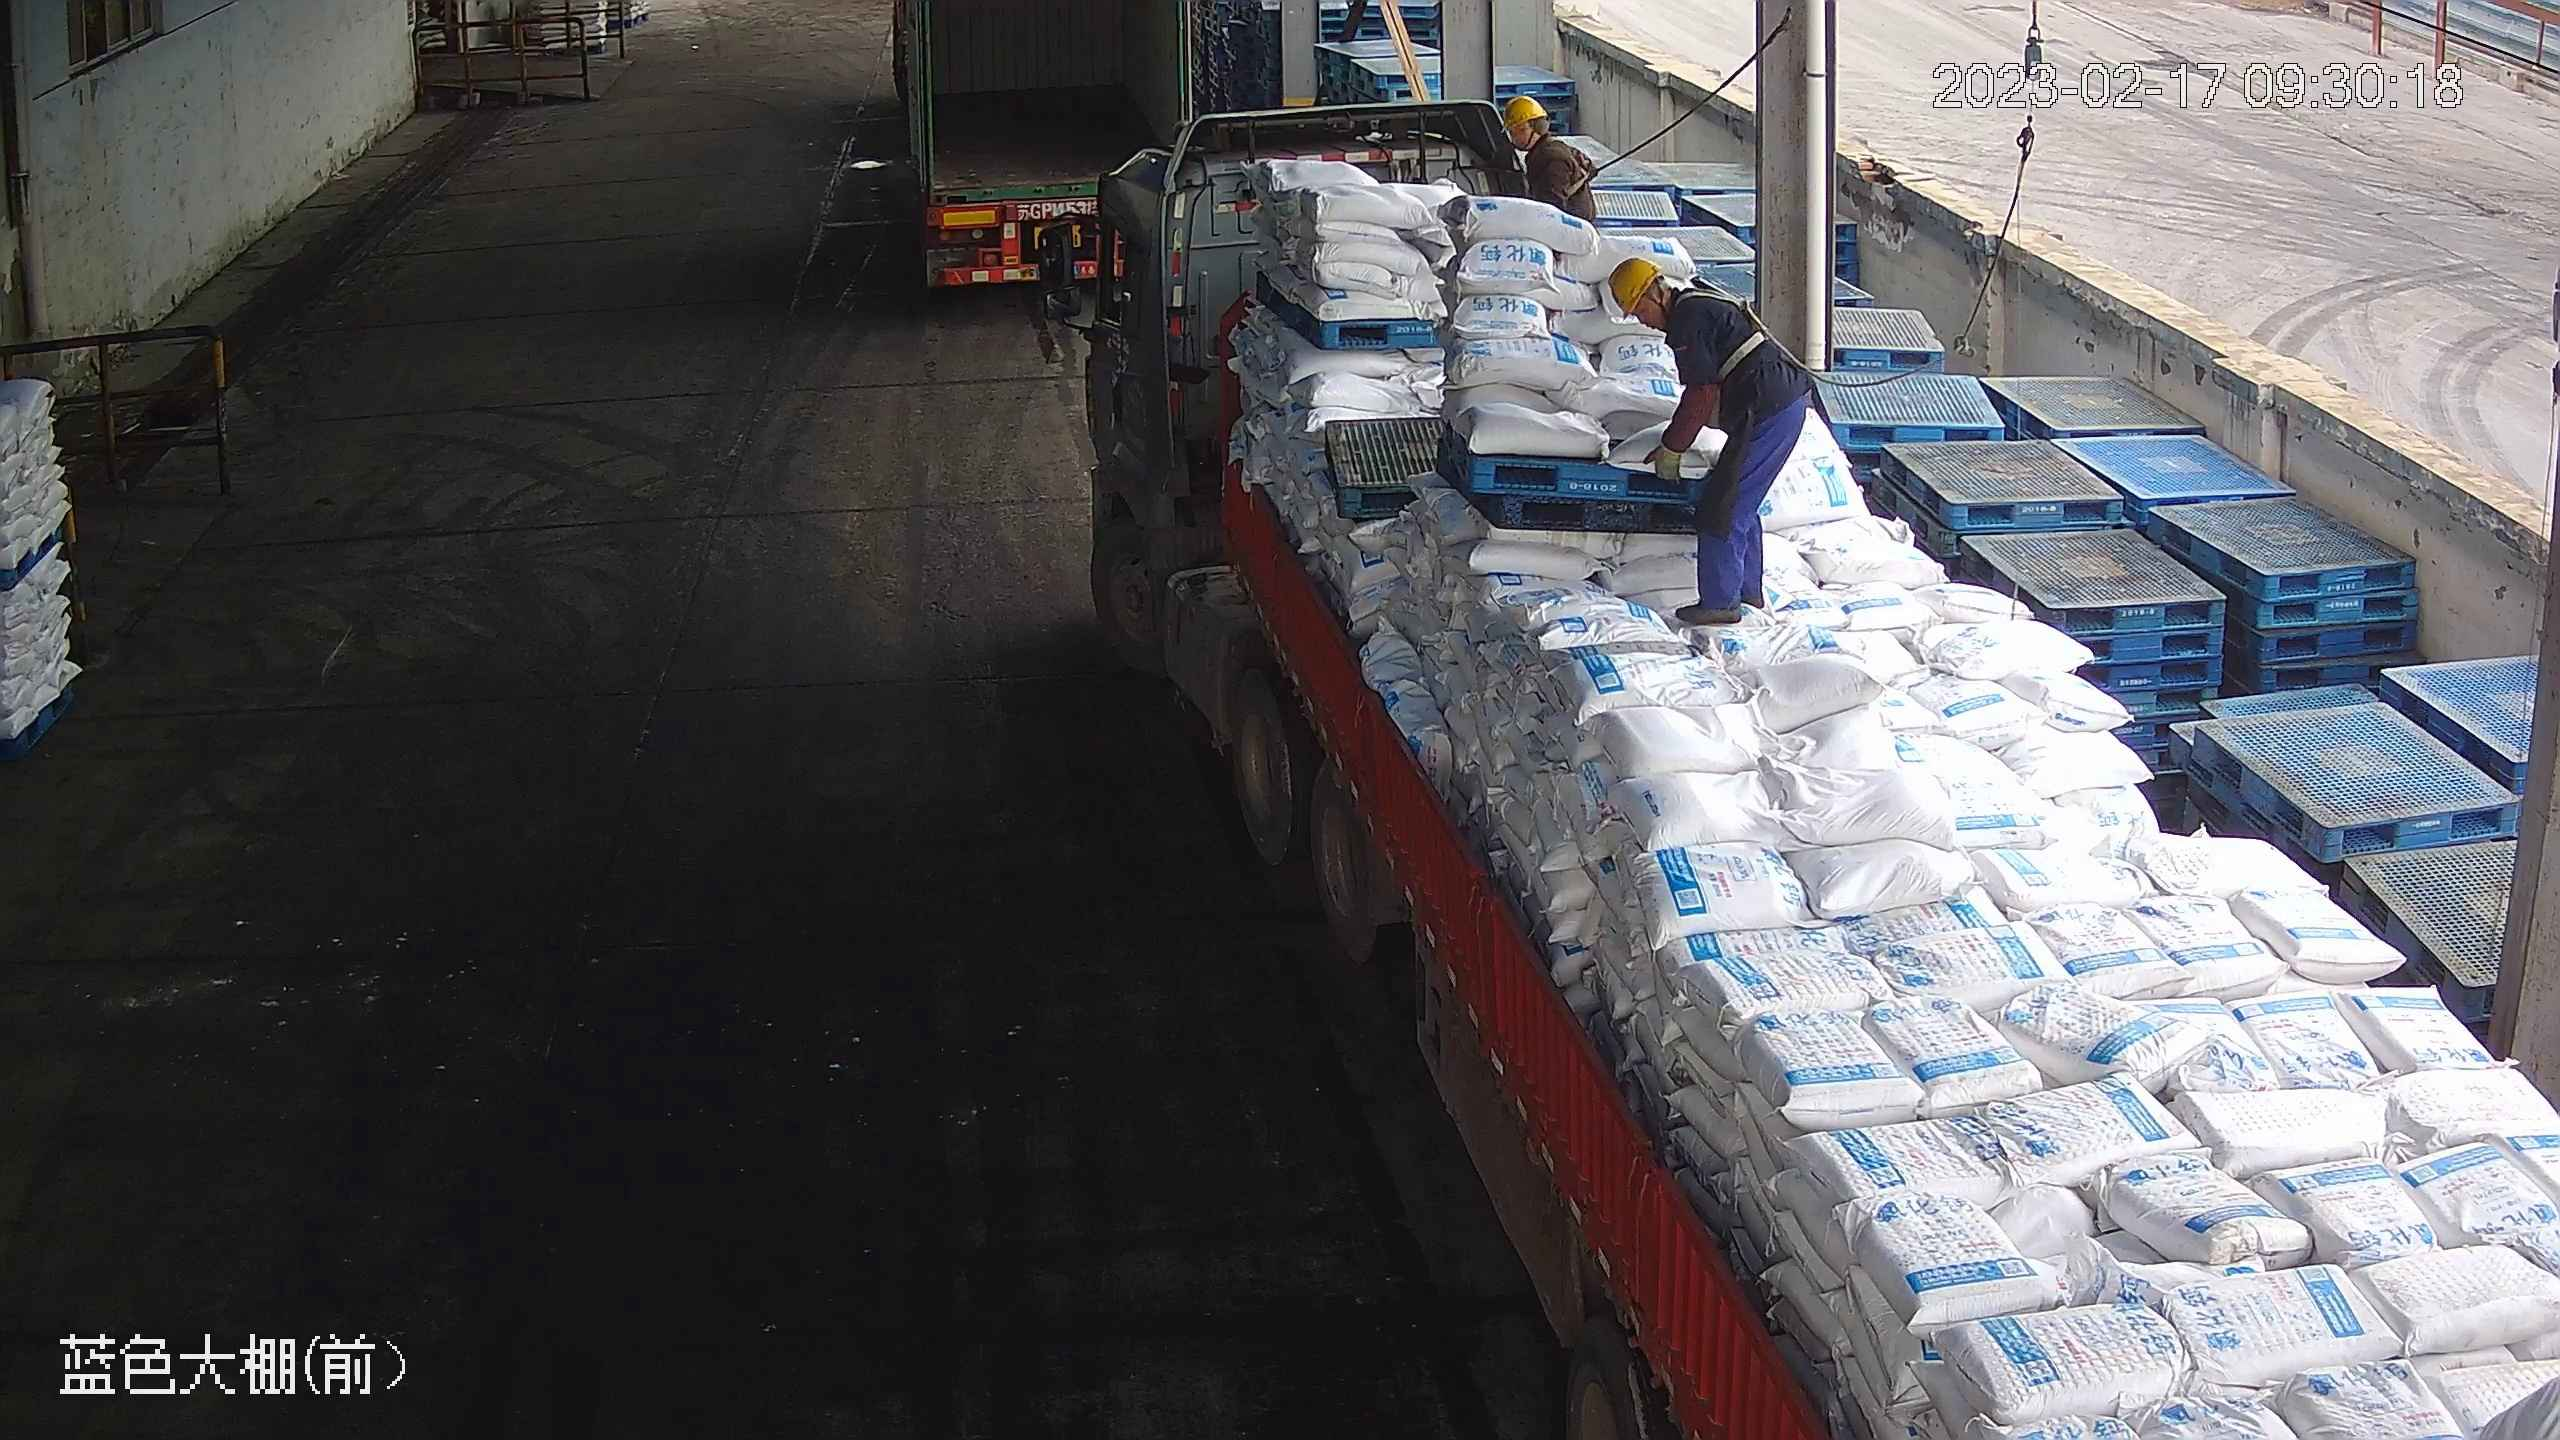belt: (1672, 275, 1797, 385), (1563, 140, 1619, 207)
head: (1609, 257, 1737, 371), (1500, 96, 1598, 201)
helmet: (1609, 255, 1664, 321), (1503, 96, 1550, 132)
people: (1609, 254, 1814, 624)
truck: (1017, 93, 2560, 1440), (890, 1, 1203, 318)
